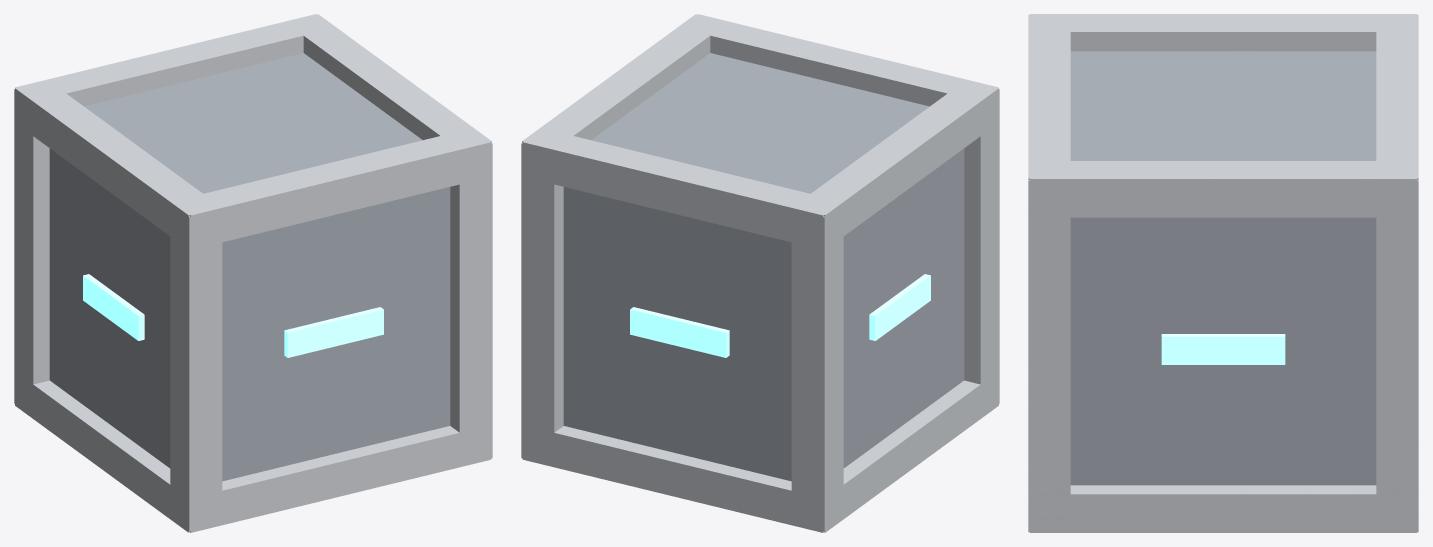
The model's file is TacticalCrate.glb.
3 renders of one model, left to right at view 1: azimuth 30°, elevation 25°; view 2: azimuth 150°, elevation 25°; view 3: azimuth 270°, elevation 25°, orthographic. The views are drawn at different scales.
Visible parts, largest first — view 1: TacticalCrate; view 2: TacticalCrate; view 3: TacticalCrate.
Part boxes in pixels (x1,y1,x2,y2): TacticalCrate: (14,14,492,532); TacticalCrate: (521,14,999,532); TacticalCrate: (1028,14,1418,532).
Bounding box in the file's own units: 1.01 × 1.01 × 1.01.
